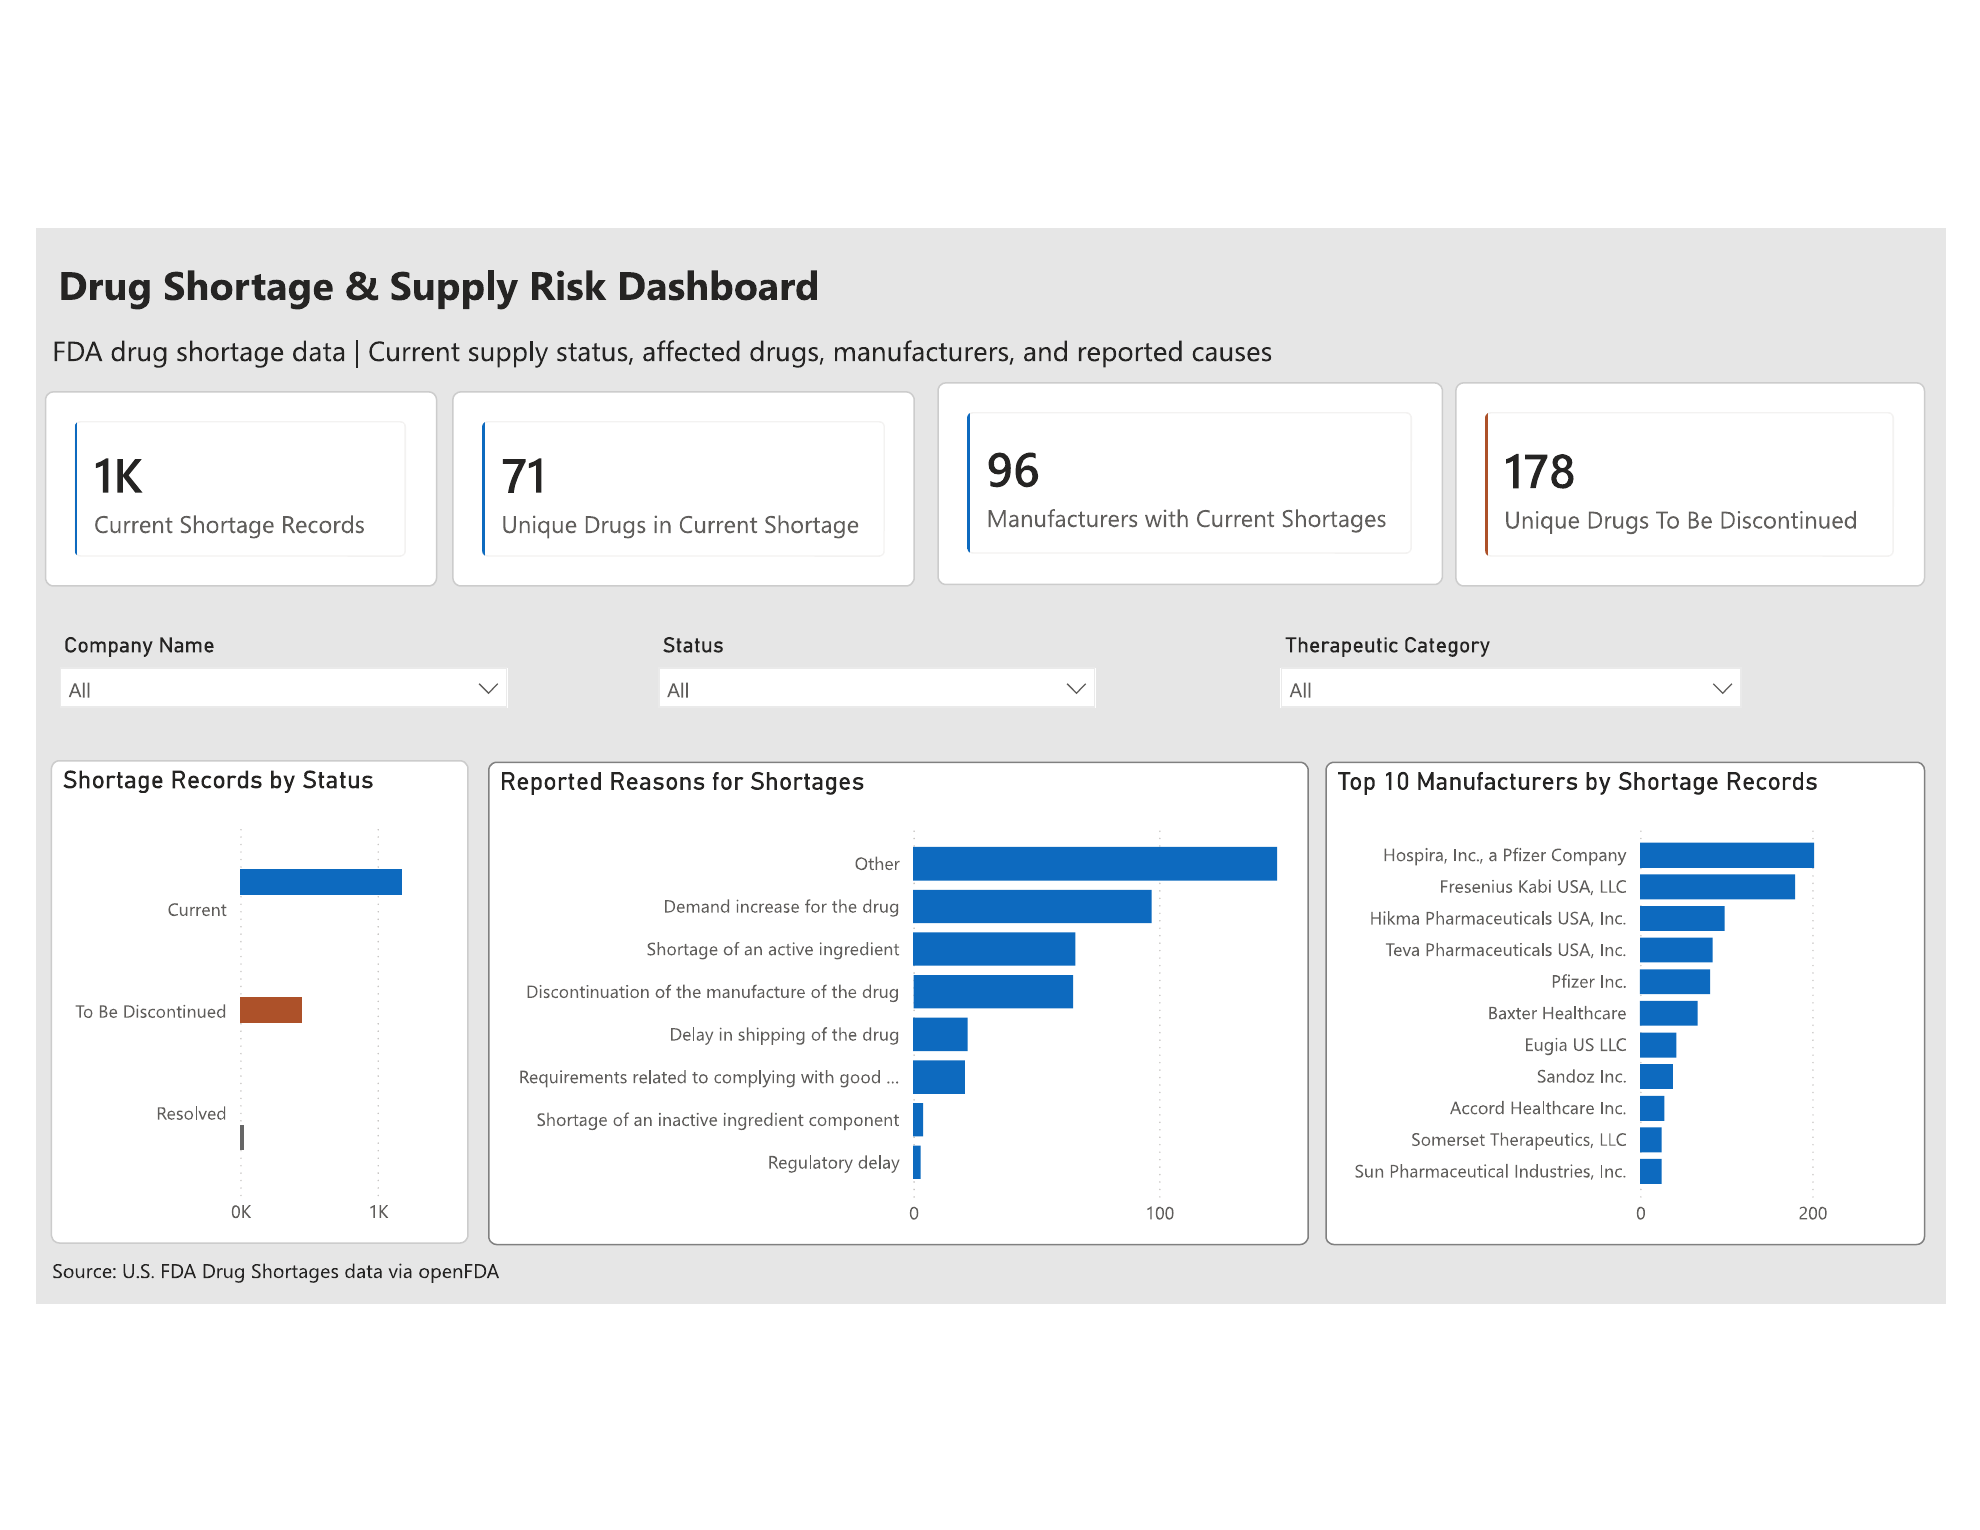

Layout of this report page (visuals, bound fields, positions):
{"tool":"powerbi","page":{"name":"Page 1","canvas":[1280,720],"ordinal":0},"visuals":[{"type":"cardVisual","fields":{"Data":["drug-shortages-0001-of-0001.Current Drug Shortages"]},"box":[5.7,108.6,262.9,131.4],"z":0},{"type":"clusteredBarChart","title":"Shortage Records by Status","fields":{"Category":["drug-shortages-0001-of-0001.Status"],"Series":["drug-shortages-0001-of-0001.Status"],"Y":["CountNonNull(drug-shortages-0001-of-0001.Status)"]},"box":[10,355.7,280,324.3],"z":0},{"type":"cardVisual","fields":{"Data":["drug-shortages-0001-of-0001.Unique Drugs in Current Shortage"]},"box":[278.6,108.6,310,131.4],"z":1000},{"type":"slicer","fields":{"Values":["drug-shortages-0001-of-0001.Company Name"]},"box":[5.7,265.7,320,98.6],"z":1000},{"type":"cardVisual","fields":{"Data":["drug-shortages-0001-of-0001.Manufacturers with Current Shortages"]},"box":[604.3,102.9,338.6,135.7],"z":2000},{"type":"clusteredBarChart","title":"Reported Reasons for Shortages","fields":{"Category":["drug-shortages-0001-of-0001.Shortage Reason"],"Y":["CountNonNull(drug-shortages-0001-of-0001.Shortage Reason)"]},"box":[302.9,357.1,550,324.3],"z":2000},{"type":"cardVisual","fields":{"Data":["drug-shortages-0001-of-0001.Unique Drugs To Be Discontinued"]},"box":[951.4,102.9,314.3,137.1],"z":3000},{"type":"clusteredBarChart","title":"Top 10 Manufacturers by Shortage Records","fields":{"Category":["drug-shortages-0001-of-0001.Company Name"],"Y":["Drugs.Shortage Record Count"]},"box":[864.3,357.1,401.4,324.3],"z":3000},{"type":"slicer","fields":{"Values":["drug-shortages-0001-of-0001.Status"]},"box":[407.1,265.7,312.9,98.6],"z":4000},{"type":"slicer","fields":{"Values":["Therapeutic Category.Therapeutic Category"]},"box":[824.3,265.7,328.6,98.6],"z":5000},{"type":"textbox","box":[5.7,64.3,835.7,44.3],"z":6002},{"type":"textbox","box":[10,14.3,538.6,50],"z":7000},{"type":"textbox","box":[5.7,684.3,315.7,30],"z":7001}]}

Visuals, with their boxes on the page's 1280x720 design canvas (x1, y1, x2, y2). These are canvas units, not pixel positions in the 1980x1530 screenshot, which may show the page scaled, cropped or inside an application window:
cardVisual - drug-shortages-0001-of-0001.Current Drug Shortages: detection(6, 109, 269, 240)
"Shortage Records by Status" clusteredBarChart: detection(10, 356, 290, 680)
cardVisual - drug-shortages-0001-of-0001.Unique Drugs in Current Shortage: detection(279, 109, 589, 240)
slicer - drug-shortages-0001-of-0001.Company Name: detection(6, 266, 326, 364)
cardVisual - drug-shortages-0001-of-0001.Manufacturers with Current Shortages: detection(604, 103, 943, 239)
"Reported Reasons for Shortages" clusteredBarChart: detection(303, 357, 853, 681)
cardVisual - drug-shortages-0001-of-0001.Unique Drugs To Be Discontinued: detection(951, 103, 1266, 240)
"Top 10 Manufacturers by Shortage Records" clusteredBarChart: detection(864, 357, 1266, 681)
slicer - drug-shortages-0001-of-0001.Status: detection(407, 266, 720, 364)
slicer - Therapeutic Category.Therapeutic Category: detection(824, 266, 1153, 364)
textbox: detection(6, 64, 841, 109)
textbox: detection(10, 14, 549, 64)
textbox: detection(6, 684, 321, 714)
